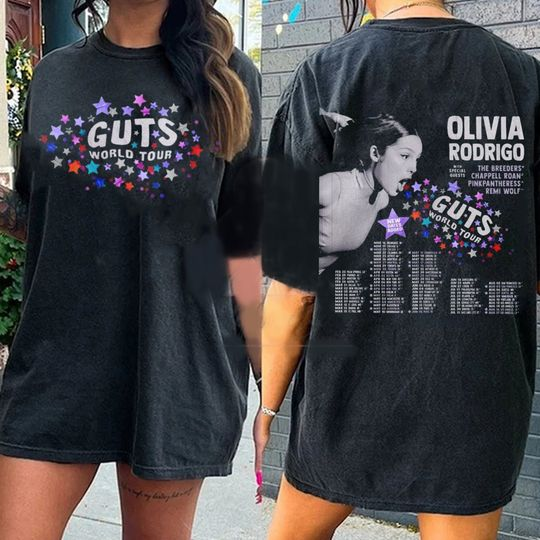design: (314, 104, 531, 316), (35, 89, 211, 200)
